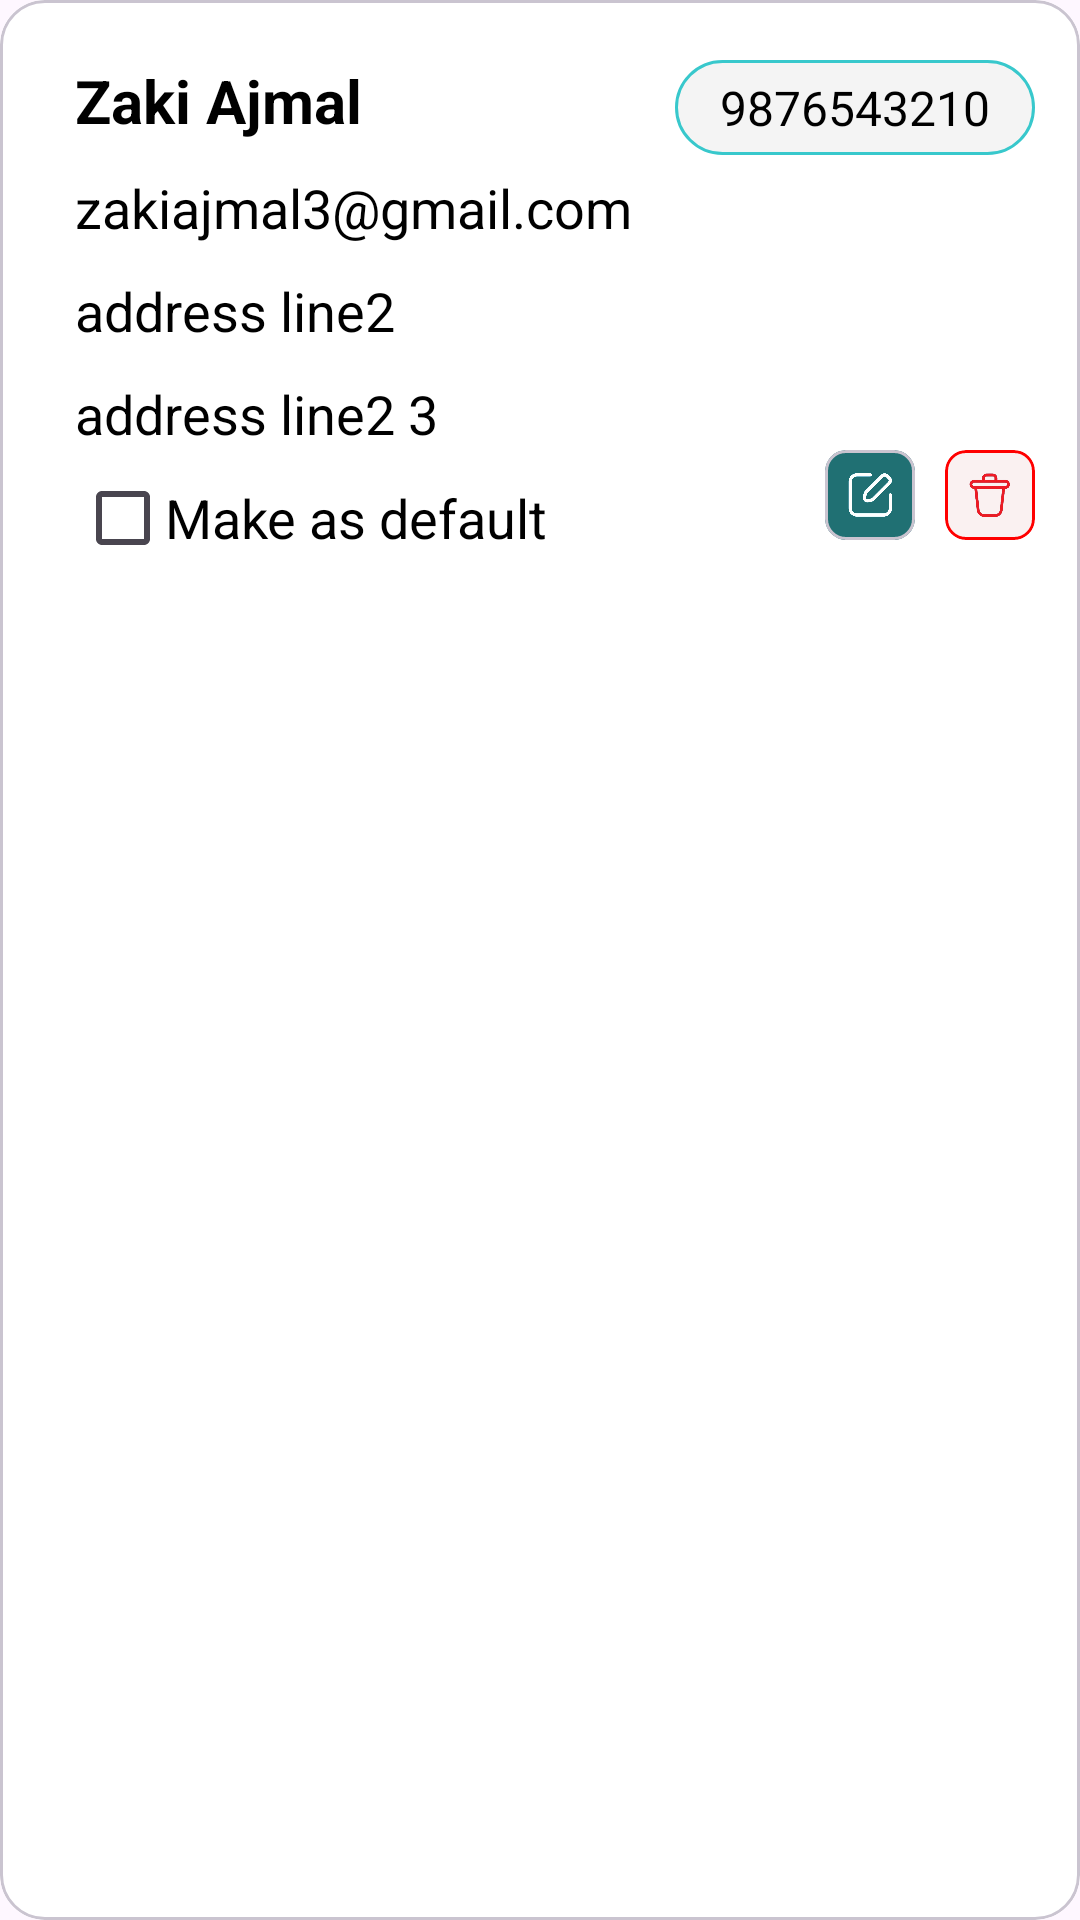

Named icons in this screenshot (1080*1920) and their centers, [x,y]:
delete: [990,495]
edit: [870,495]
